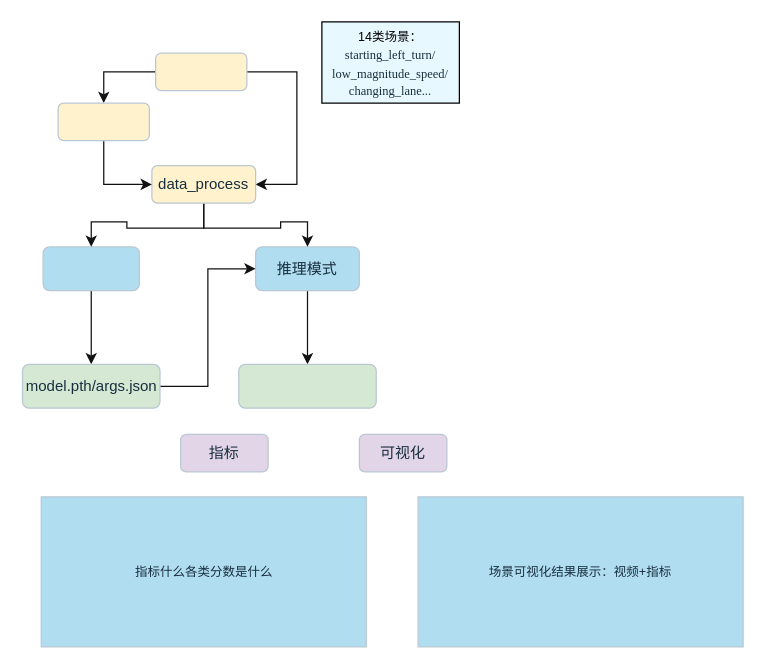
The diagram is 765 pixels wide and 669 high, and some of its shapes have lost their labels. Each missing label, with the centre of its shape:
nuplan v1.1: (x=200, y=71)
数据预处理: (x=103, y=121)
训练模式: (x=90, y=268)
预测轨迹: (x=307, y=385)
